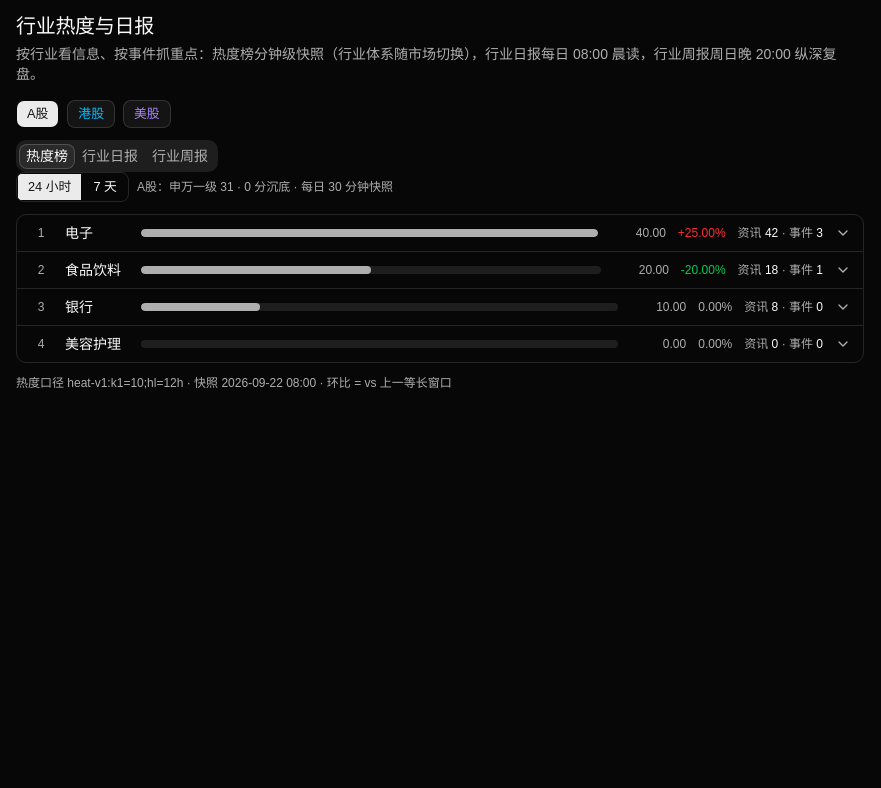
Test: IndustryHeat 行业热度与日报页（T126）· 热度榜 Tab › 下钻游标加载更多：nextBeforeId 非空展示按钮，点击带 beforeId 追加，尾页隐藏
Click the button with test id "heat-row-电子": x=440, y=233 x1=17 y1=215 x2=863 y2=251
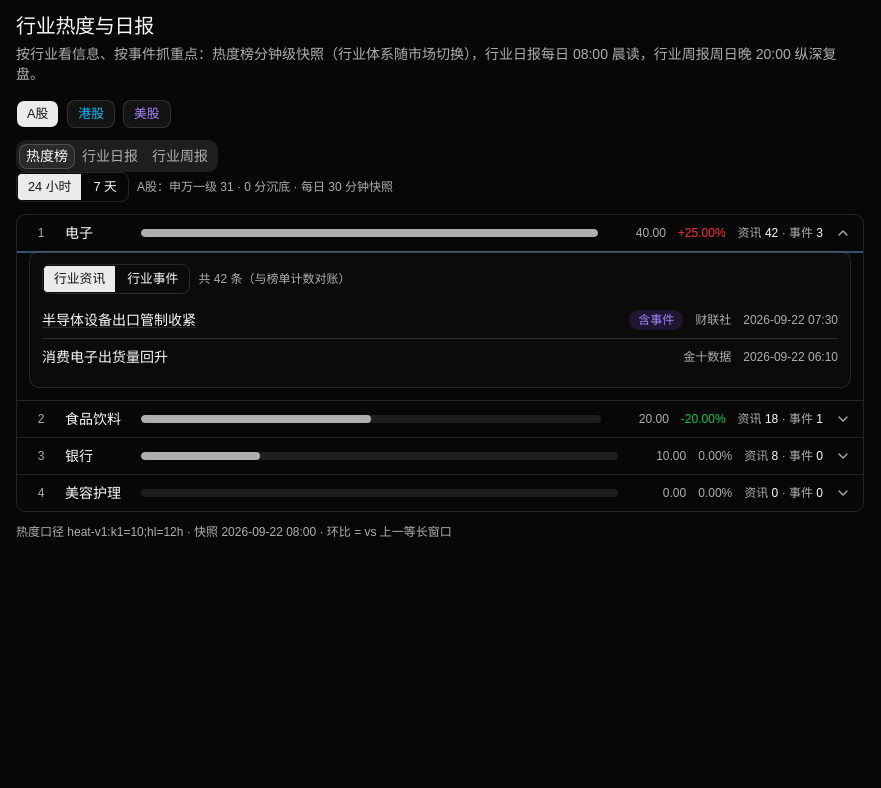
Expected: the element with test id "heat-drilldown-电子" is shown, x1=29 y1=251 x2=851 y2=388
Click the button with test id "drill-type-events-电子": x=153, y=279 x1=116 y1=265 x2=189 y2=293
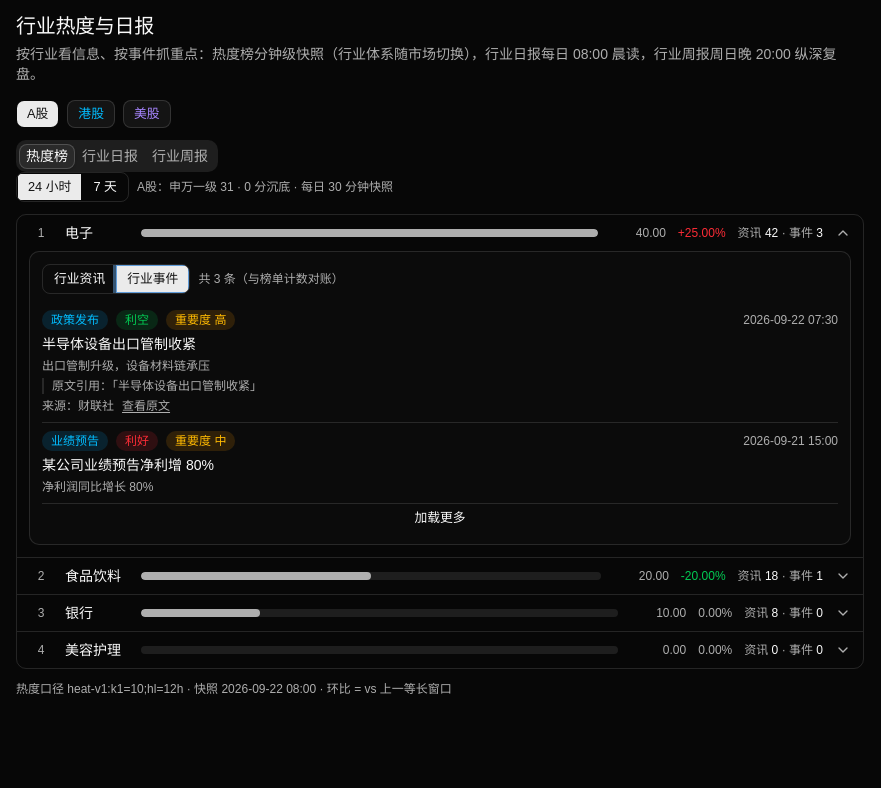
Click the button with test id "drill-load-more-电子": x=440, y=518 x1=403 y1=504 x2=477 y2=532
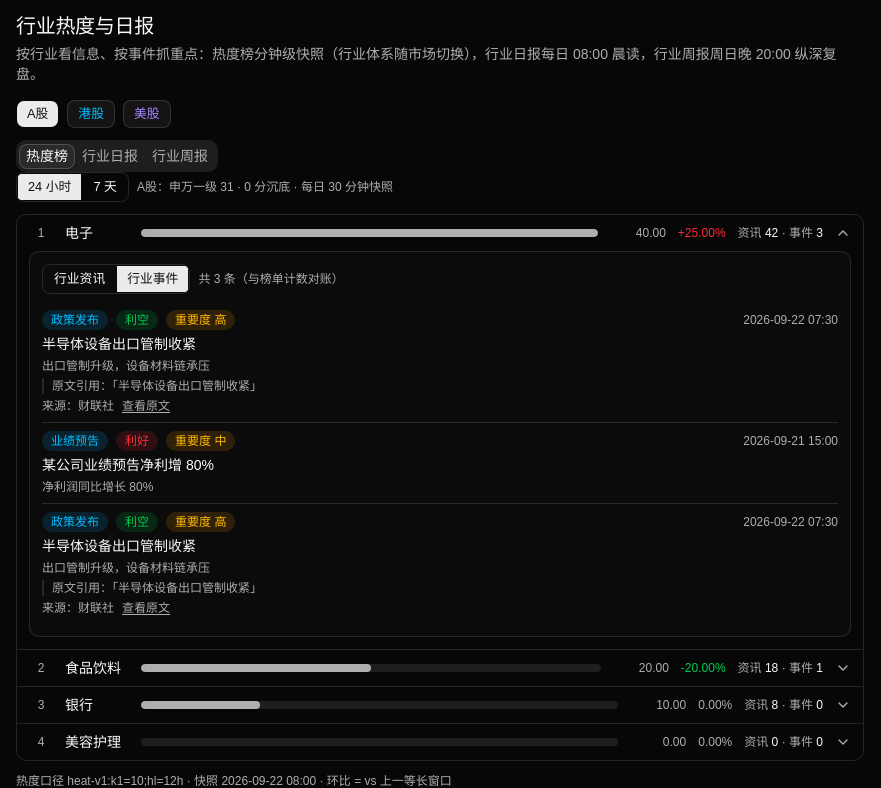
Expected: the button with test id "drill-load-more-电子" is gone
